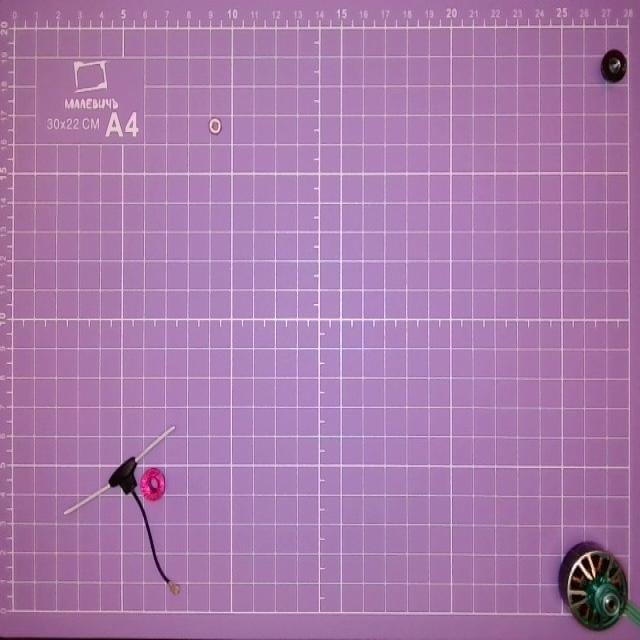antenna: (66, 426, 182, 595)
motor: (559, 538, 640, 640)
screw_M3: (208, 112, 224, 138)
screw_M5: (602, 47, 627, 85), (141, 466, 166, 503)
